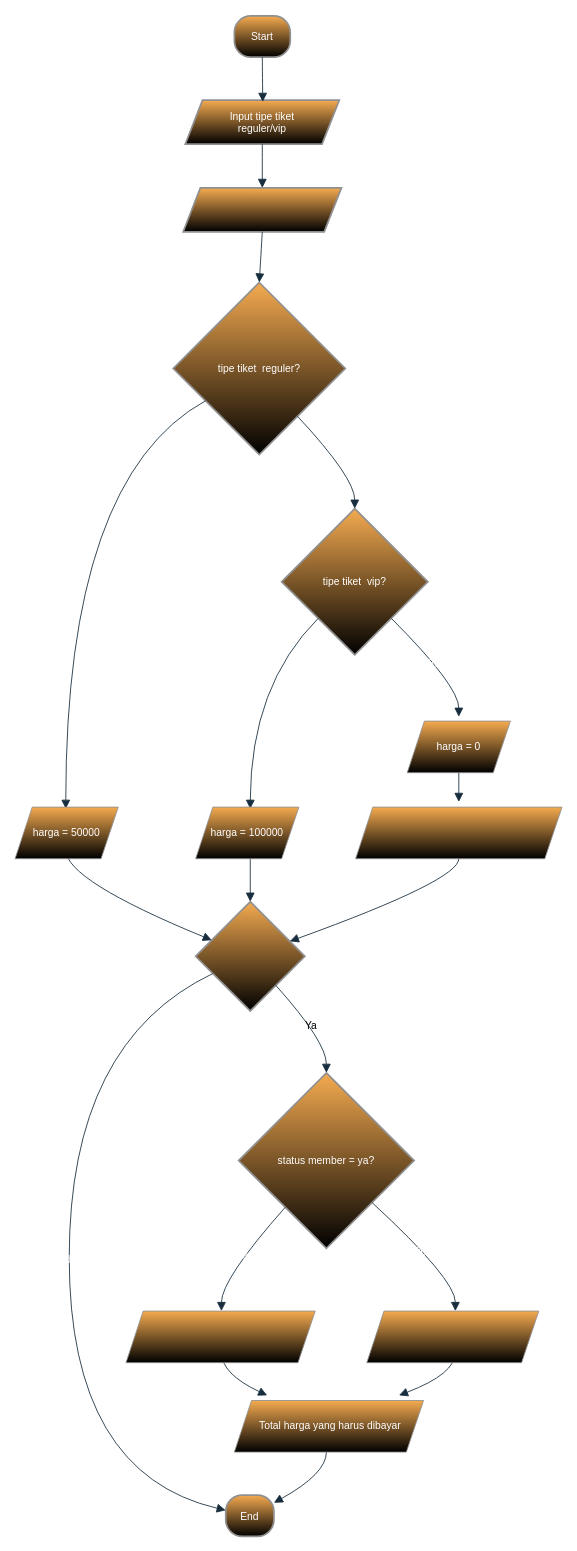
The diagram is 577 pixels wide and 1551 high, and some of its shapes have lost their labels. Here are the shapes that lost their labels. From the top down, the box of each, then its label:
(182, 187, 342, 232): Input status member ya/tidak
(355, 806, 562, 859): Tipe tiket tidak valid!
(194, 900, 305, 1011): harga != 0?
(125, 1310, 315, 1363): harga akhir = harga diskon 20%
(366, 1310, 539, 1363): harga akhir = harga biasa
